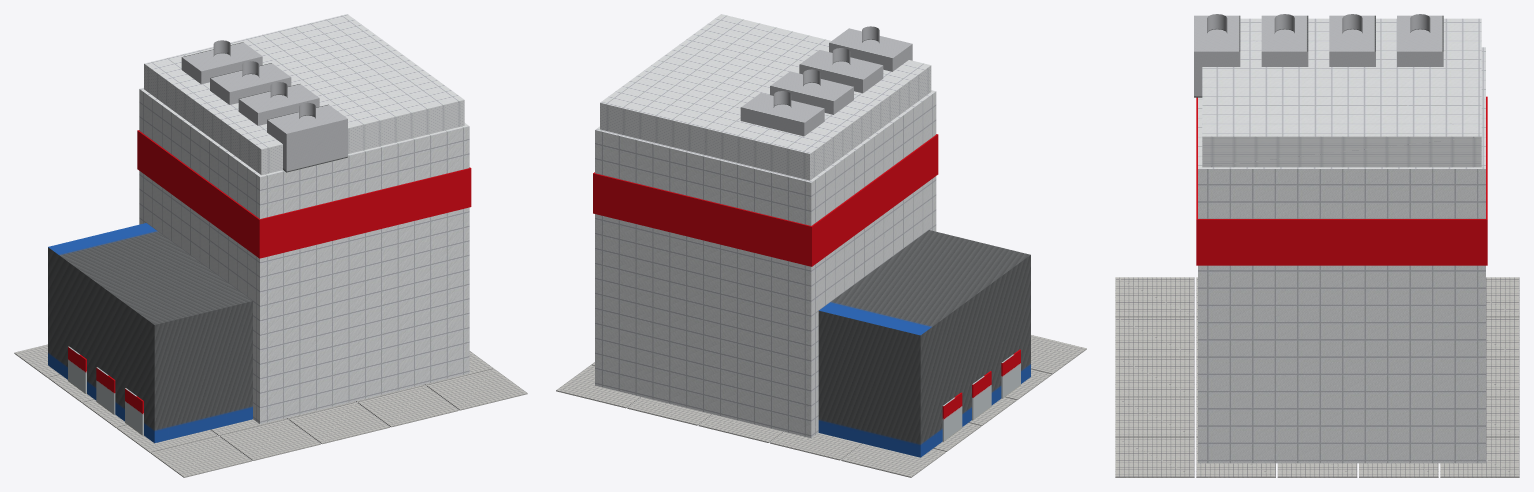
3 renders of one model, left to right at view 1: azimuth 30°, elevation 25°; view 2: azimuth 150°, elevation 25°; view 3: azimuth 270°, elevation 25°, orthographic. The views are drawn at different scales.
Parts seen in each view (by area): view 1: 28185_B33_LOTTE_Biologics_Mega_Plant_1; view 2: 28185_B33_LOTTE_Biologics_Mega_Plant_1; view 3: 28185_B33_LOTTE_Biologics_Mega_Plant_1.
Part boxes in pixels (x1,y1,x2,y2): 28185_B33_LOTTE_Biologics_Mega_Plant_1: [14, 14, 527, 477]; 28185_B33_LOTTE_Biologics_Mega_Plant_1: [556, 14, 1086, 477]; 28185_B33_LOTTE_Biologics_Mega_Plant_1: [1115, 14, 1519, 477].
Bounding box in the file's own units: 55.8 × 46.5 × 47.8.
1 material, 1 textured.
